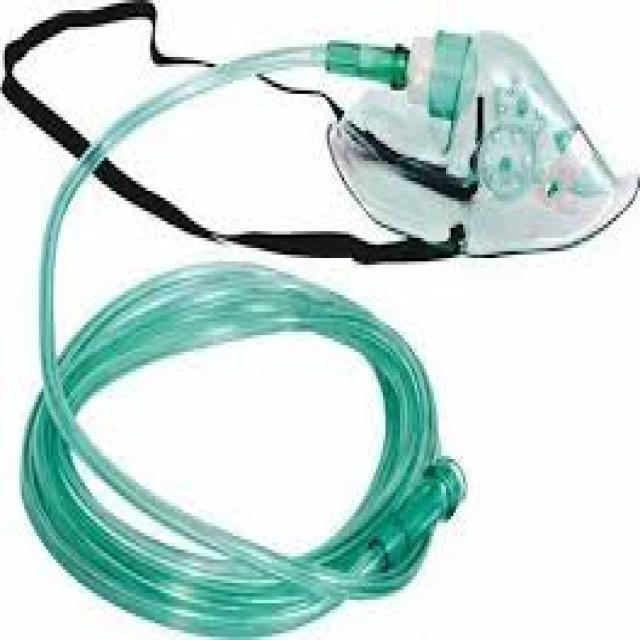oxygen_mask: (47, 30, 640, 392)
